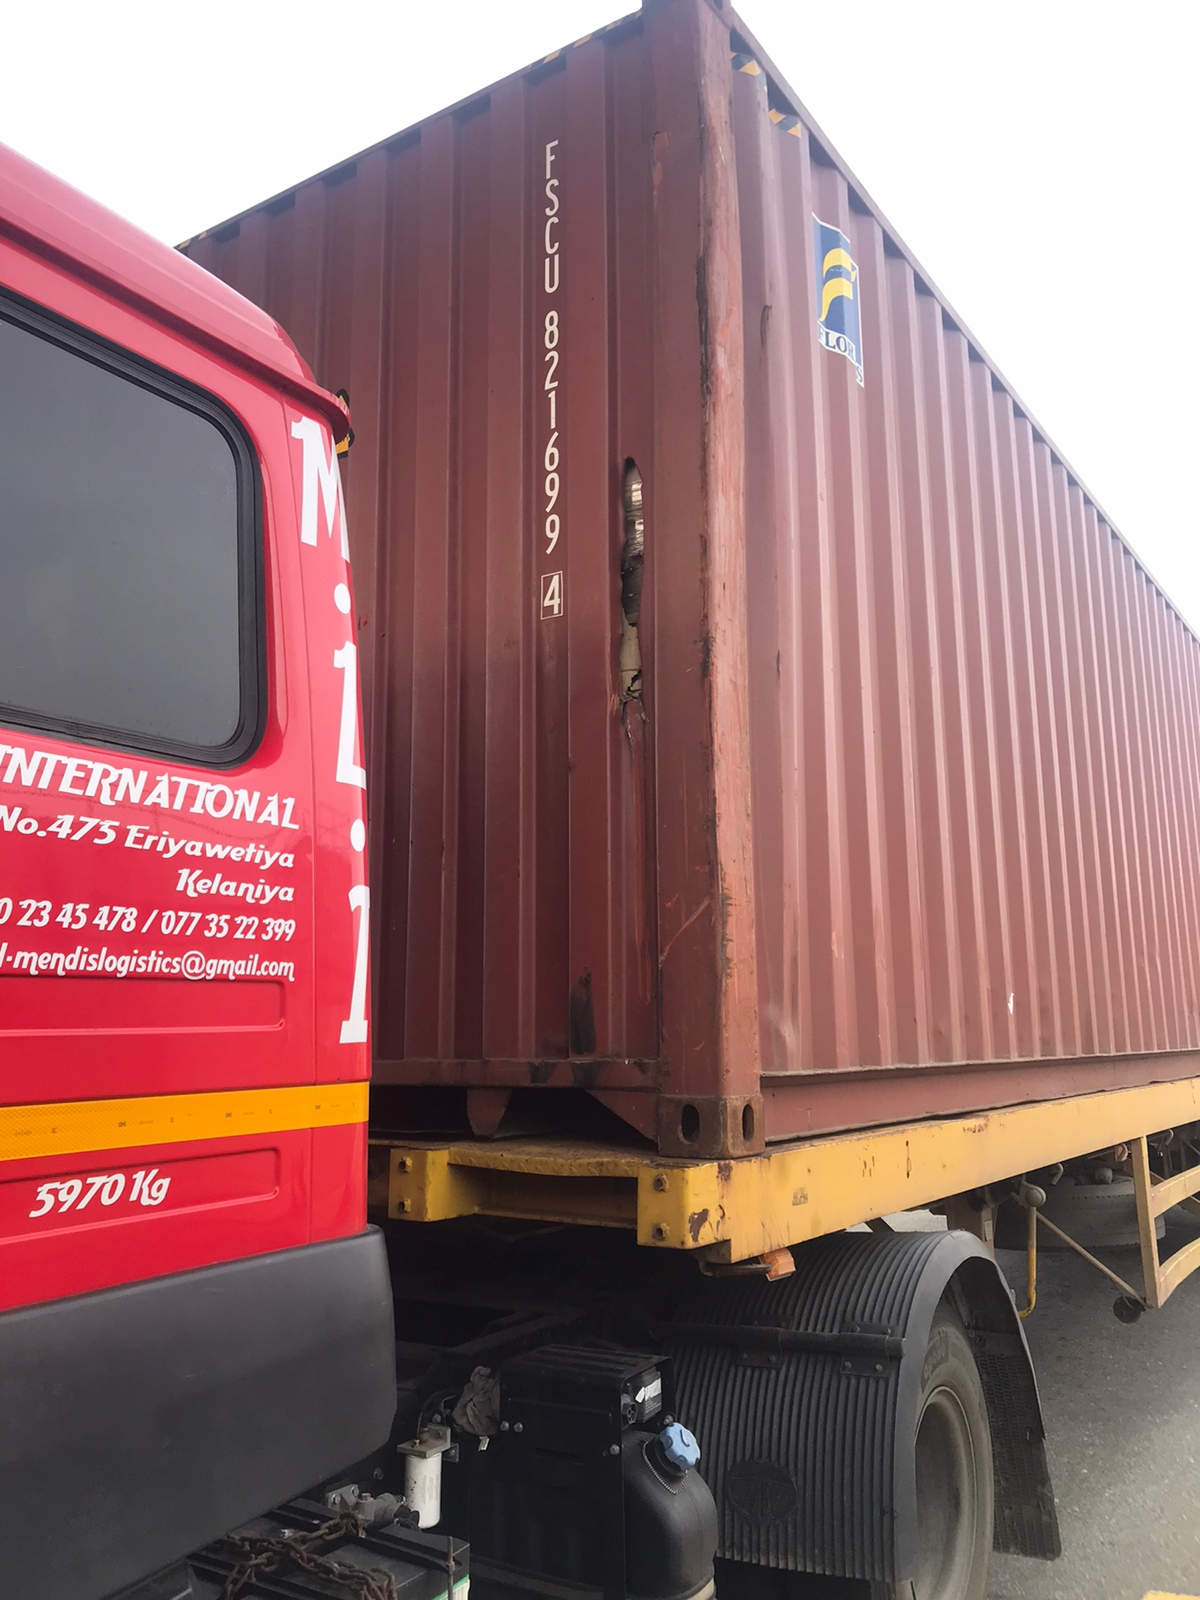front_side: (136, 3, 741, 1146)
left_side: (677, 18, 1200, 1107)
